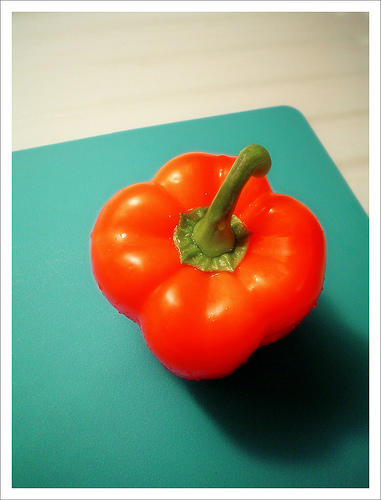capsicum: (91, 145, 327, 377)
